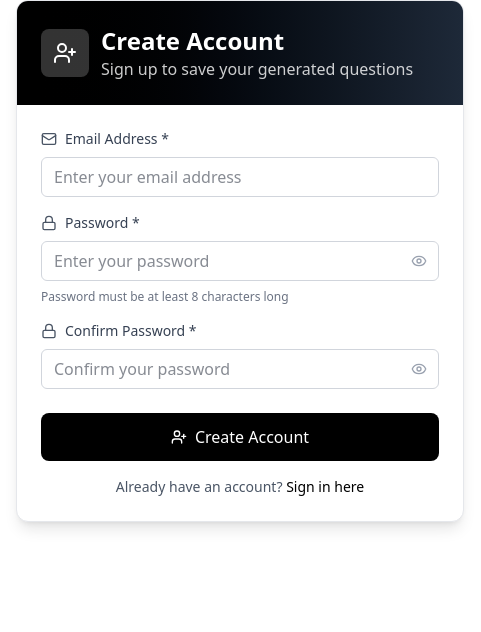
Test: SignUpForm › Form Validation › shows validation error for invalid email format
In the field with test id "email-input": (240, 177) [41,157,439,197], type "invalid-email"
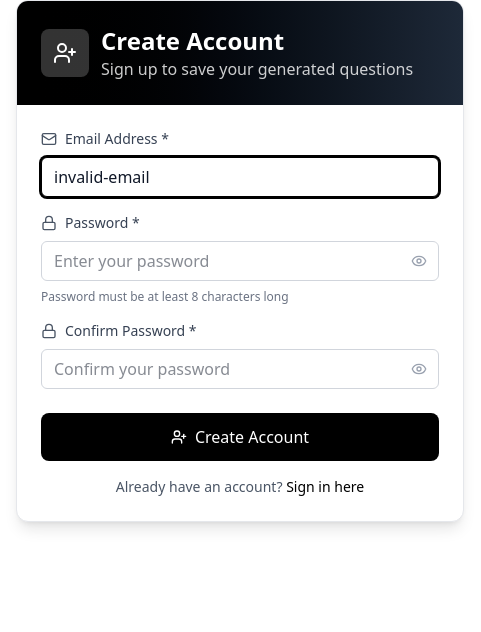
Click the button with test id "signup-button": (240, 437) [41,413,439,461]
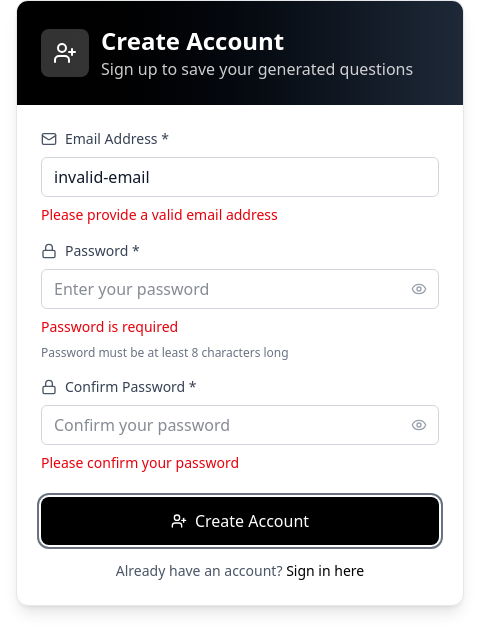
Result: the text with test id "email-error" reads "Please provide a valid email address" at [41,205,278,224]
